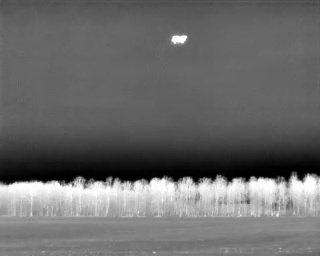DRONE: (166, 29, 191, 51)
